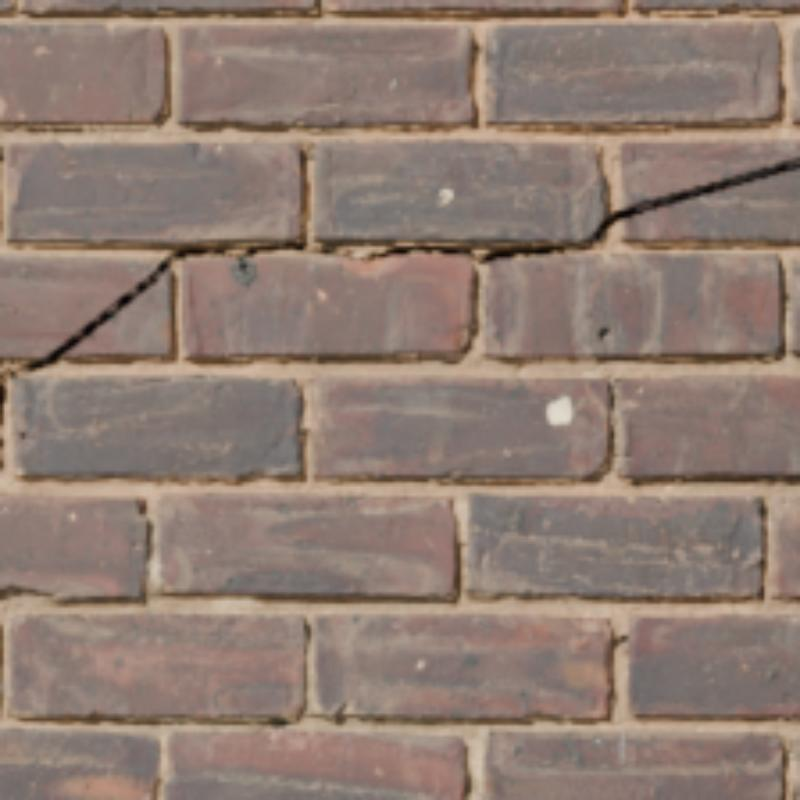crack: (366, 157, 796, 261), (0, 246, 229, 411), (239, 243, 309, 254)
